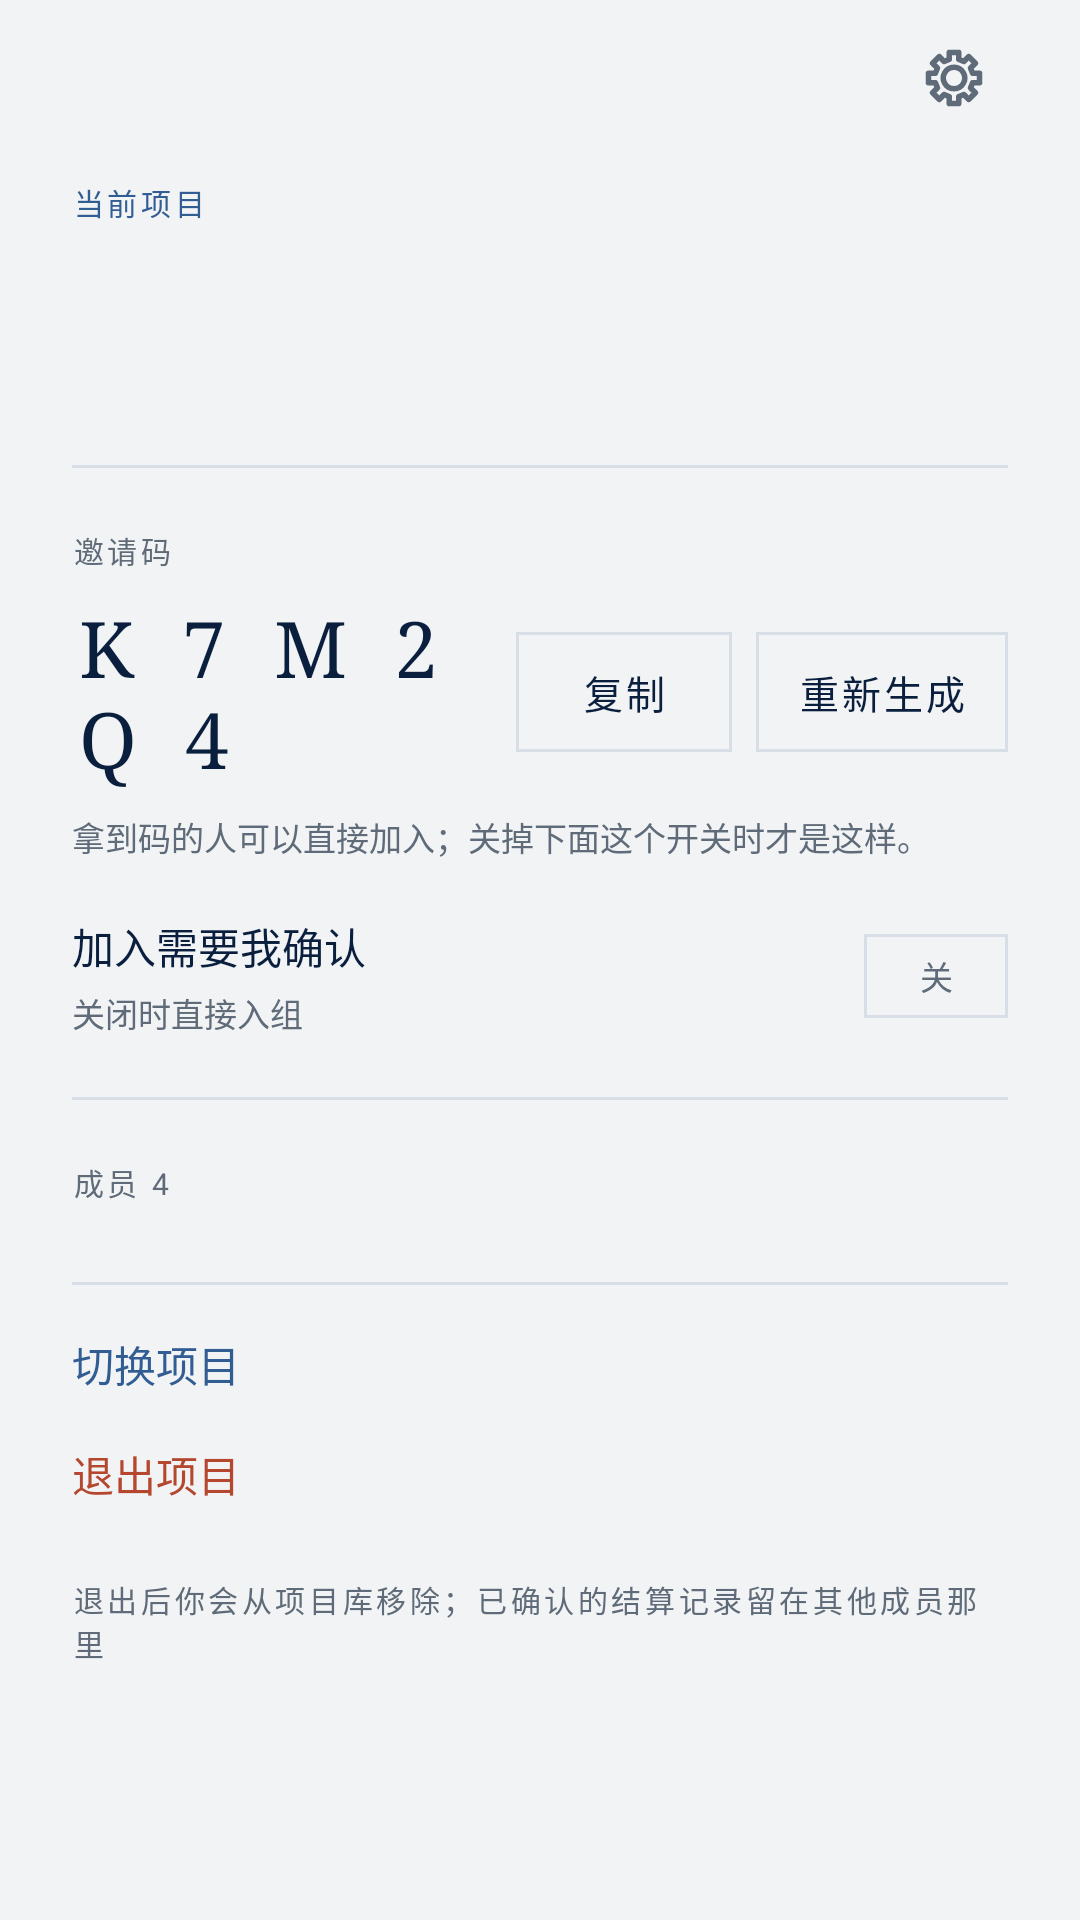

Screen size 1080*1920. Icon name, then its center in pixels as (x=x, y=y):
设置: (x=954, y=78)
